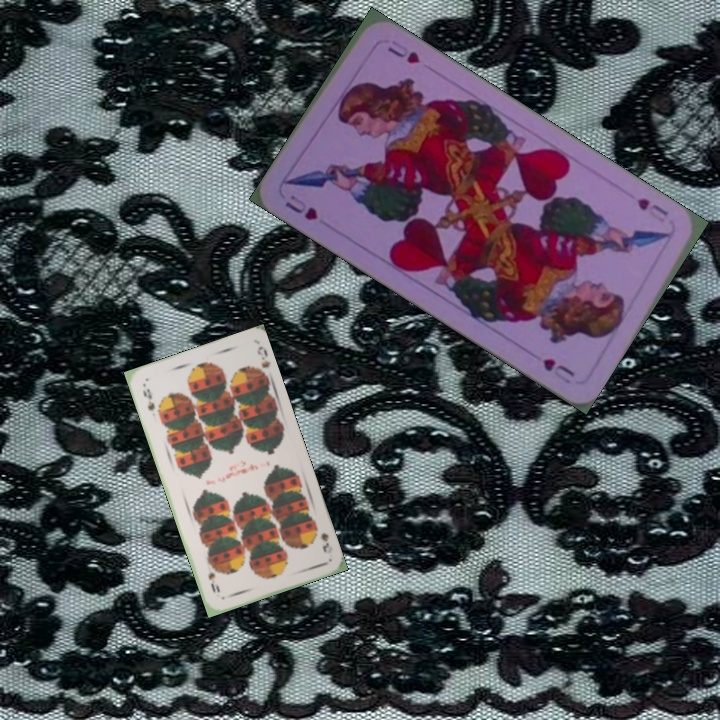HU: (632, 194, 671, 226), (281, 197, 321, 224)
S9: (309, 521, 332, 555), (138, 385, 157, 413)
